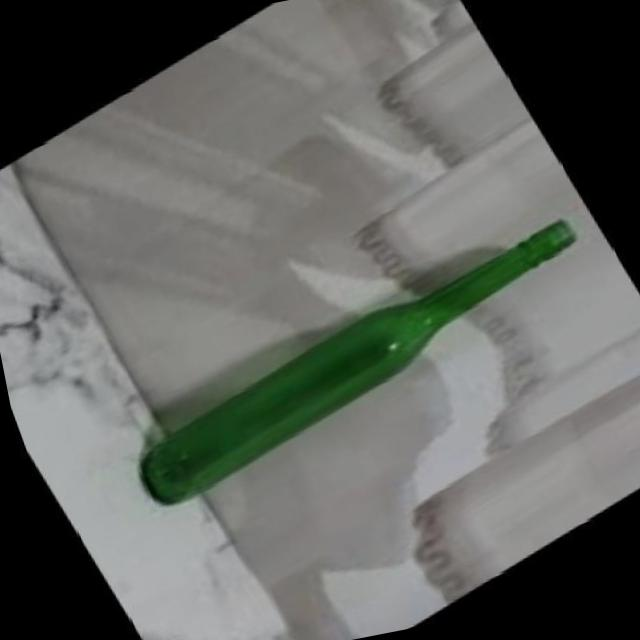BotolKaca: (105, 208, 614, 512)
